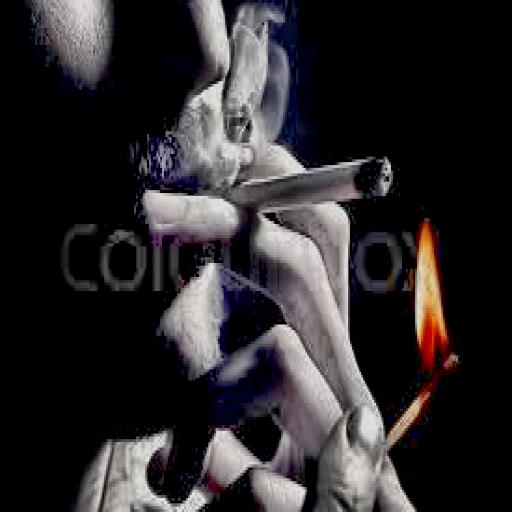fire: (402, 210, 454, 366)
